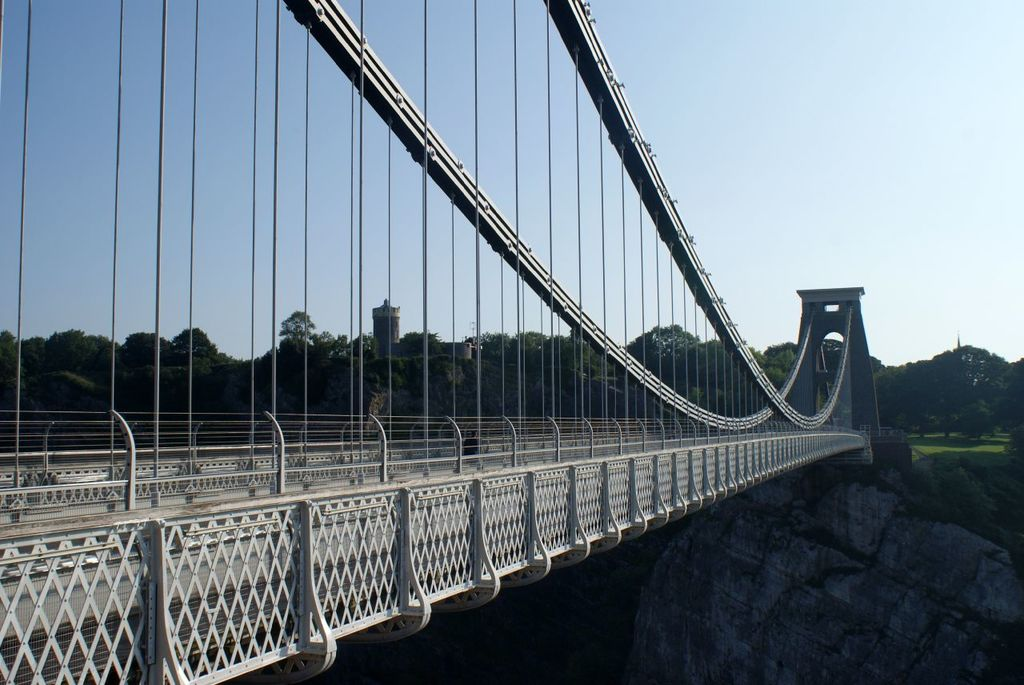Tree: (396, 324, 800, 414), (0, 324, 276, 448), (898, 344, 1004, 437), (345, 332, 382, 408), (314, 327, 345, 414), (868, 349, 895, 432), (996, 356, 1023, 435), (279, 311, 314, 342)
